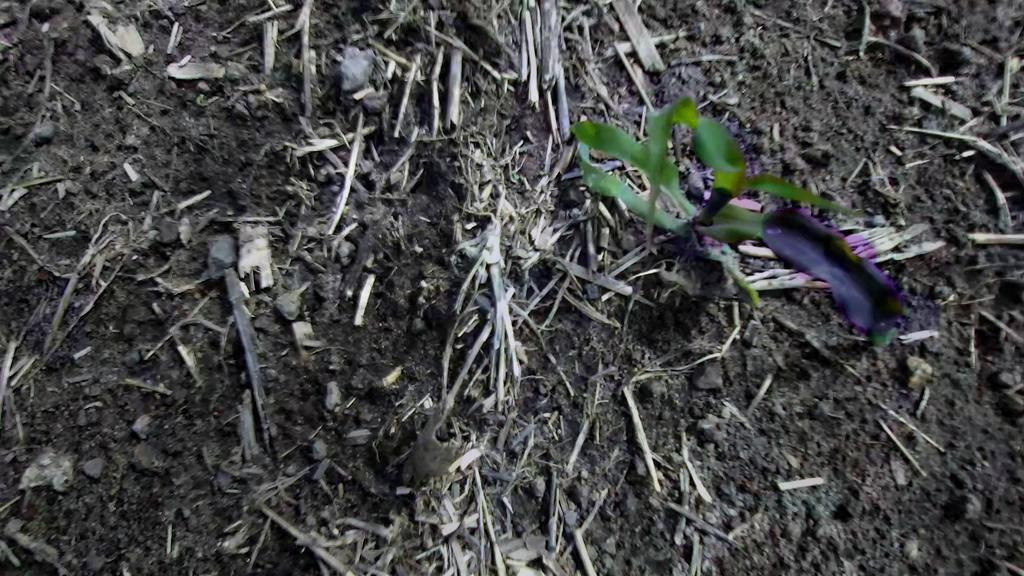BroWeed: (861, 206, 889, 229), (875, 194, 904, 214), (196, 93, 222, 109), (0, 40, 7, 61), (511, 171, 521, 180)
Maize: (535, 46, 944, 399)
